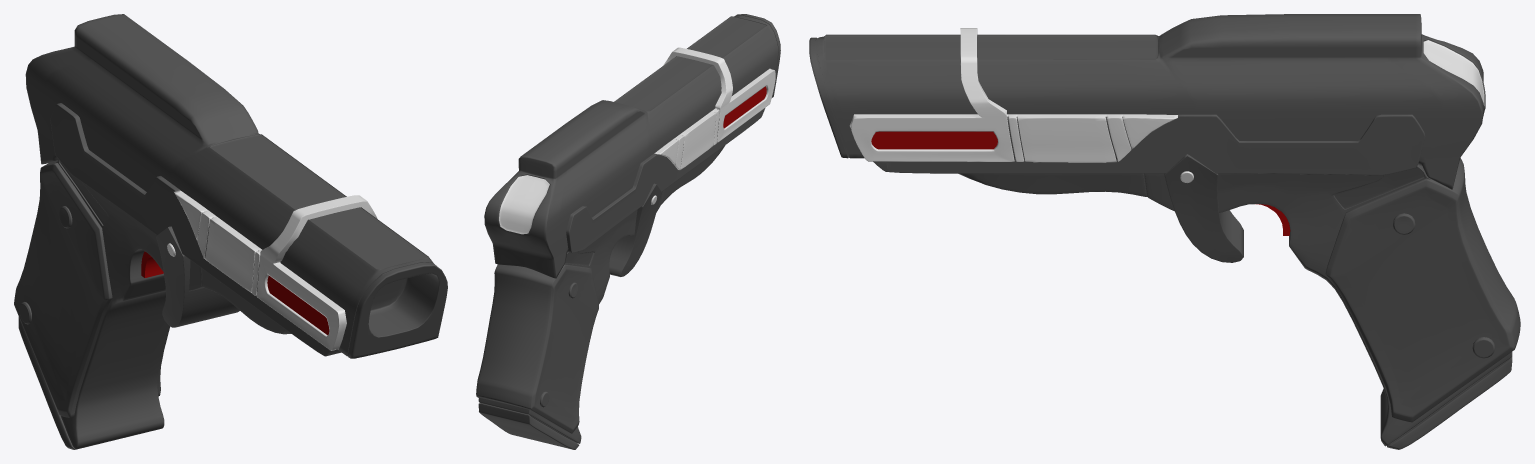
File: gun.gltf
3 renders of one model, left to right at view 1: azimuth 30°, elevation 25°; view 2: azimuth 150°, elevation 25°; view 3: azimuth 270°, elevation 25°, orthographic. The views are drawn at different scales.
Visible parts, largest first — view 1: gun; view 2: gun; view 3: gun.
Part boxes in pixels (x1=…): gun: x1=14, y1=14, x2=447, y2=449; gun: x1=476, y1=14, x2=780, y2=449; gun: x1=809, y1=14, x2=1520, y2=449.
Bounding box in the file's own units: 3.95 × 15.07 × 23.98.
